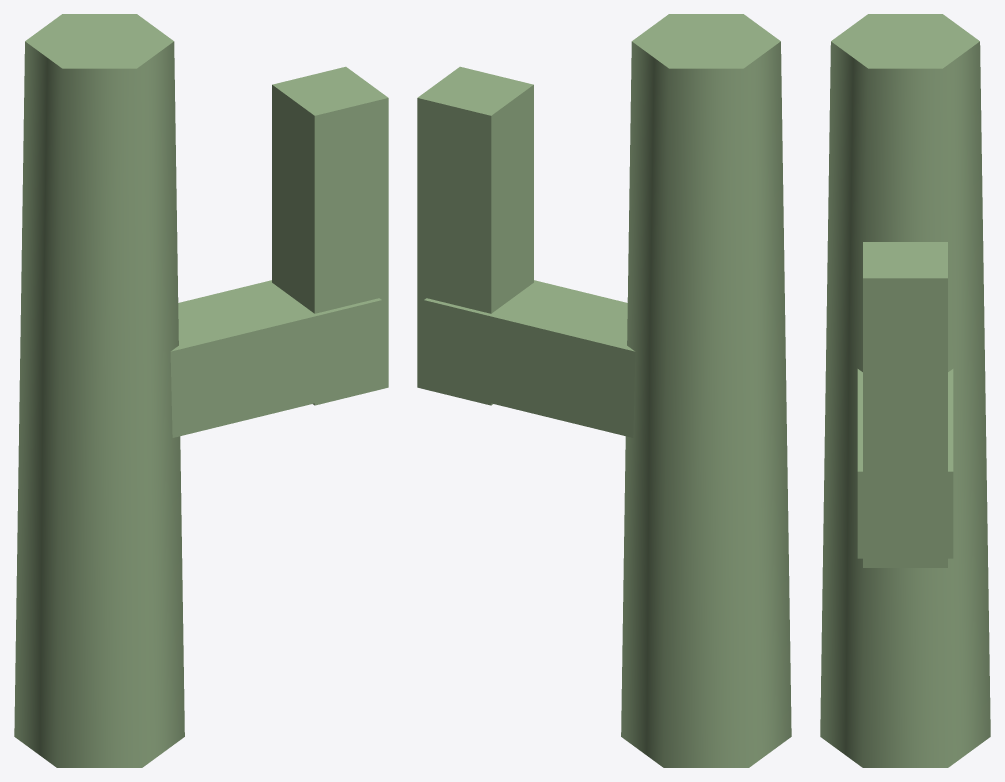
3 views of the same model, side by side, from view 1: azimuth 30°, elevation 25°; view 2: azimuth 150°, elevation 25°; view 3: azimuth 270°, elevation 25° (orthographic).
Size of the model in its own units: 1.8 by 3.6 by 0.8.
